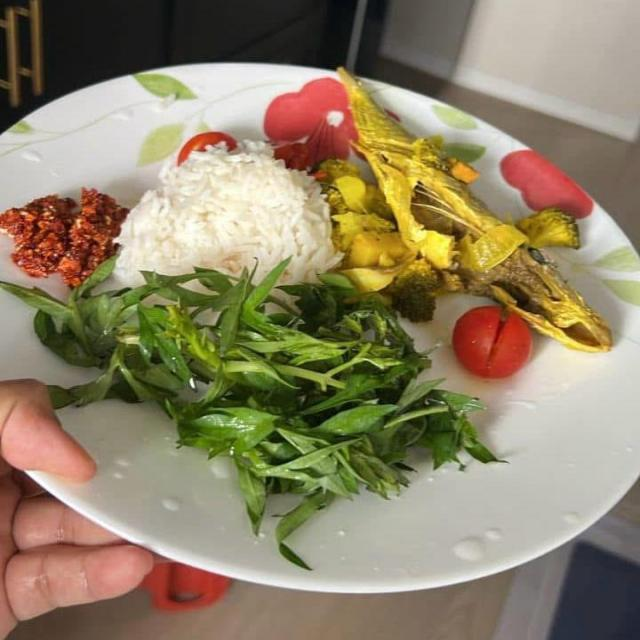Fish: (347, 66, 622, 358)
Plate: (28, 203, 639, 592)
Rice: (109, 145, 347, 325)
Vegetables: (2, 163, 507, 573), (452, 306, 540, 386)
